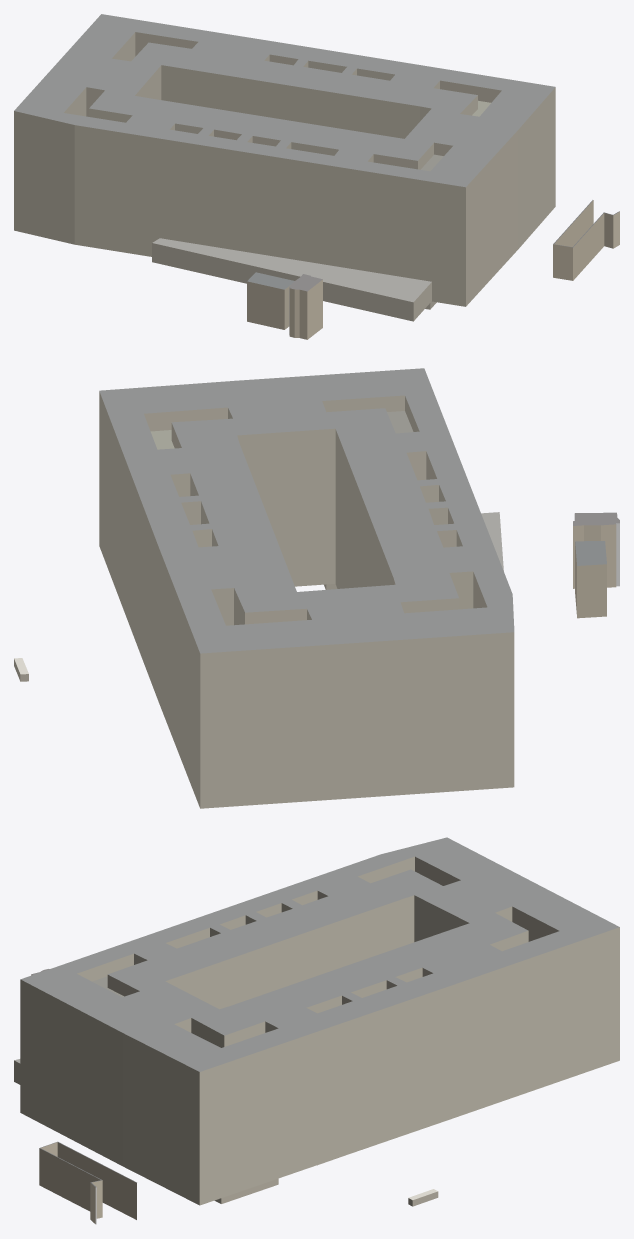
3 renders of one model, top to bottom at view 1: azimuth 30°, elevation 25°; view 2: azimuth 150°, elevation 25°; view 3: azimuth 270°, elevation 25°, orthographic. The views are drawn at different scales.
Visible parts, largest first — view 1: tuile; view 2: tuile; view 3: tuile.
Part boxes in pixels (x1,y1,x2,y2): tuile: (14,14,619,339); tuile: (14,368,619,808); tuile: (14,837,619,1224).
Bounding box in the file's own units: 361 × 117 × 378.
